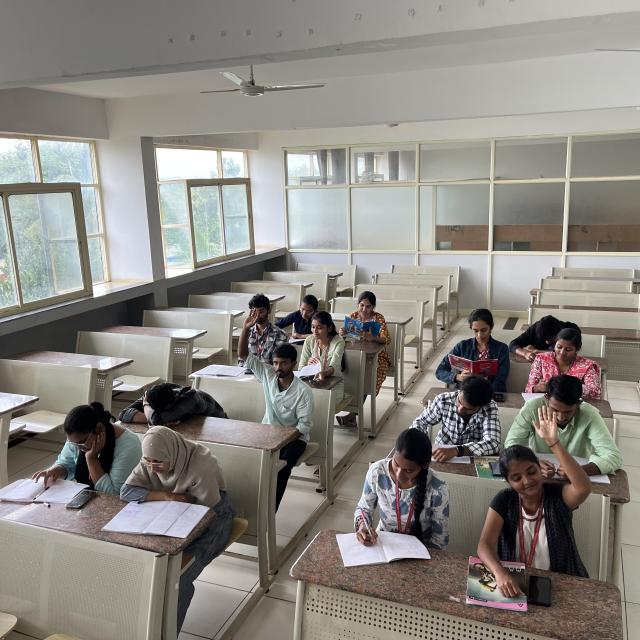Hand Rising: (487, 413, 599, 554), (238, 304, 307, 429)
Reading: (125, 429, 233, 541), (18, 390, 112, 500), (520, 391, 616, 482), (426, 294, 521, 383), (406, 382, 502, 464), (520, 327, 600, 402), (296, 316, 349, 392), (333, 283, 392, 344), (276, 289, 326, 349)
Sleeping: (118, 366, 228, 434), (512, 294, 596, 358)
Writing: (334, 426, 435, 562)
